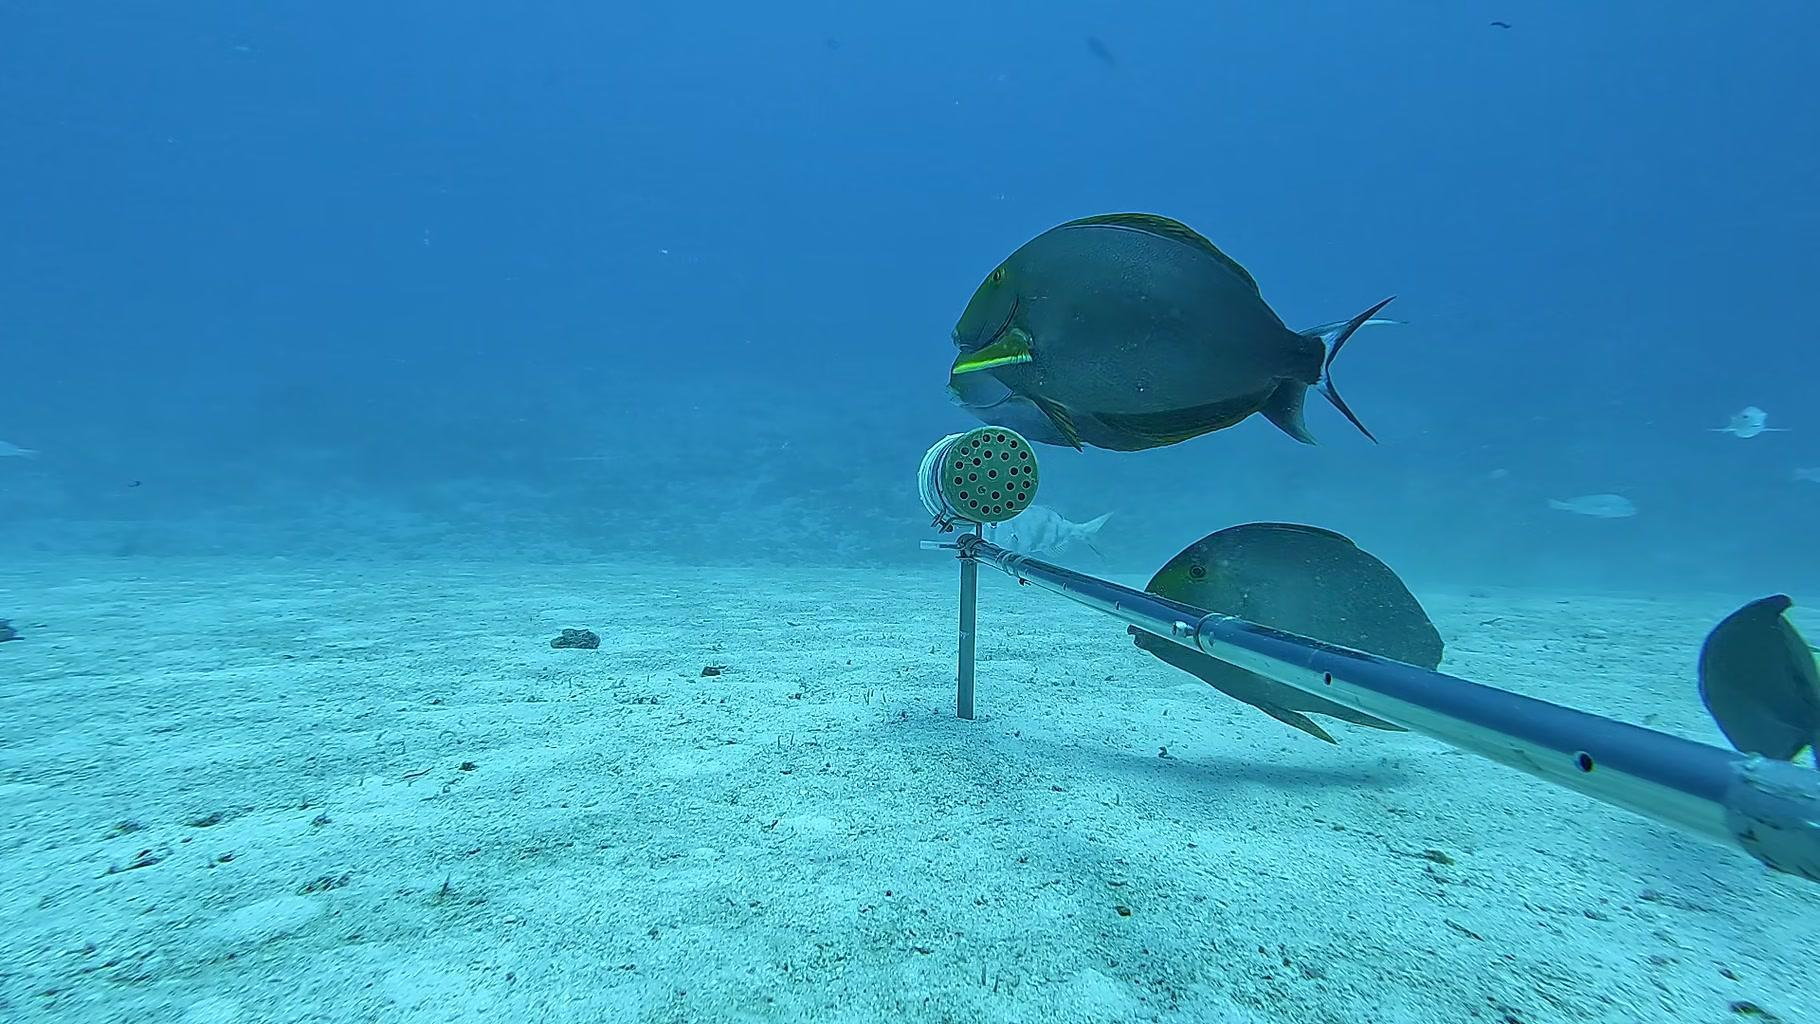fish: (950, 206, 1410, 453), (1124, 524, 1470, 759), (1681, 571, 1820, 819), (957, 501, 1124, 569), (1697, 390, 1797, 458), (1540, 486, 1642, 530)
